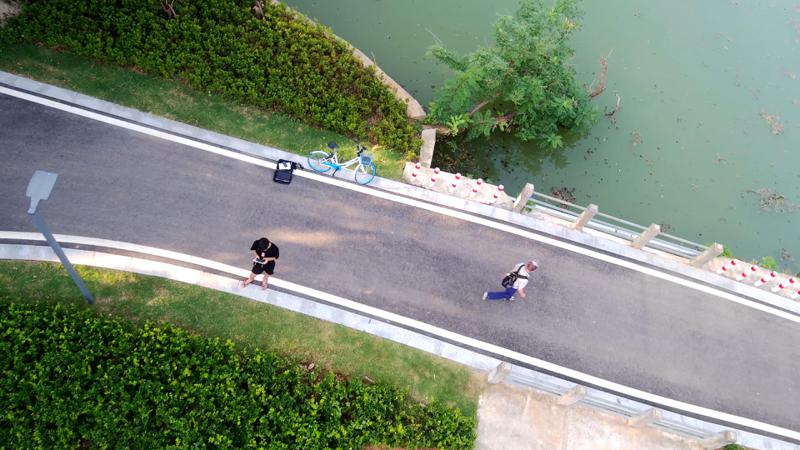passerby: (480, 256, 538, 303), (241, 235, 279, 290)
